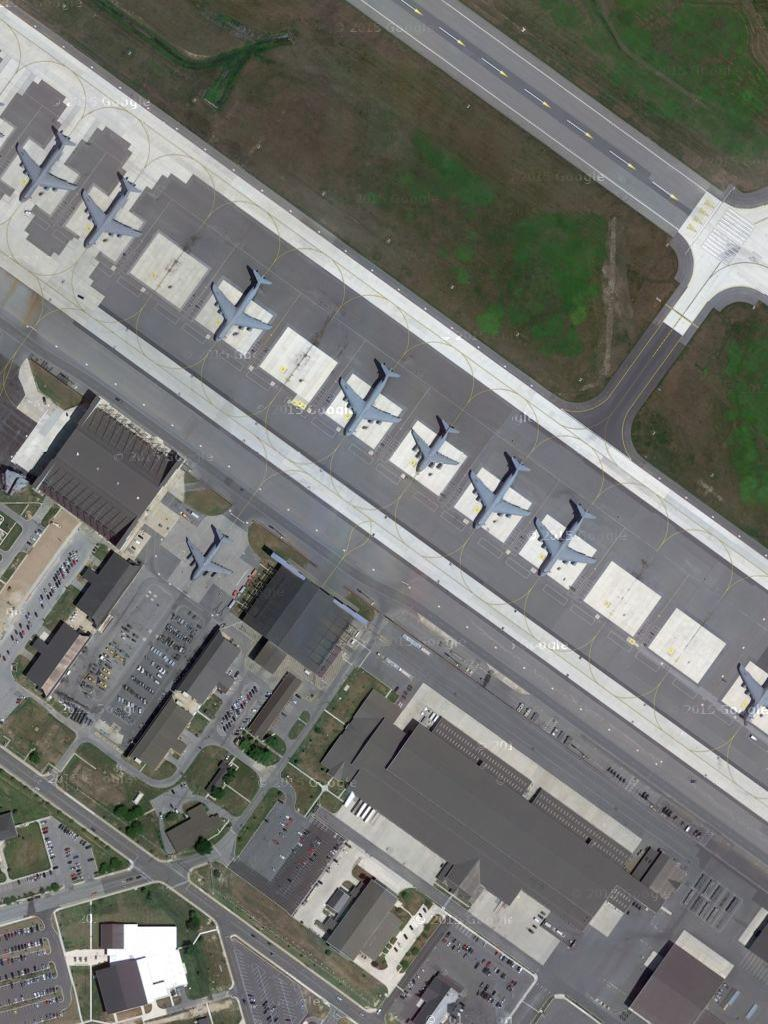C-17: (404, 412, 466, 477), (176, 527, 235, 582)
KC-135: (526, 494, 601, 585), (334, 355, 402, 445), (203, 265, 279, 345), (74, 170, 139, 253), (461, 452, 531, 529), (10, 127, 79, 202)
